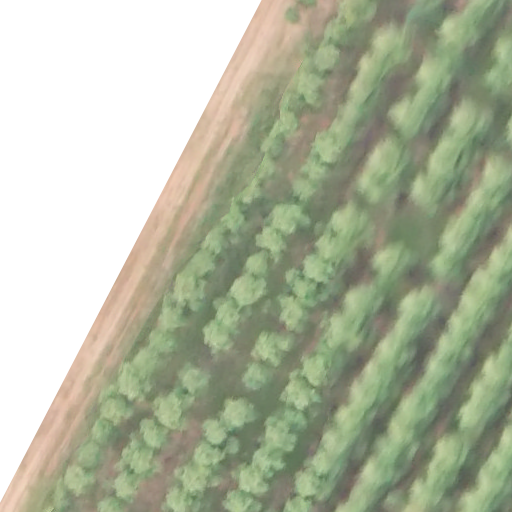eucalipto: (448, 98, 493, 144), (388, 98, 432, 140), (429, 141, 473, 182), (368, 244, 414, 281), (439, 15, 480, 55), (250, 332, 292, 368), (278, 378, 323, 411), (370, 145, 405, 187), (311, 132, 349, 170), (416, 59, 457, 94), (397, 290, 440, 323), (325, 317, 364, 353), (328, 208, 371, 240), (115, 366, 153, 402), (161, 484, 208, 512), (460, 289, 501, 321), (277, 297, 312, 334), (413, 176, 452, 209), (342, 287, 377, 323), (178, 462, 215, 496), (454, 403, 494, 434), (63, 462, 98, 497), (122, 435, 154, 473), (202, 321, 236, 356), (371, 339, 408, 371), (375, 436, 407, 473), (174, 275, 205, 313), (448, 313, 486, 344), (417, 368, 456, 398), (291, 472, 331, 501), (399, 391, 431, 427), (469, 189, 503, 222), (348, 381, 385, 411), (260, 425, 298, 454), (434, 439, 472, 468), (222, 397, 256, 429), (214, 301, 245, 336), (302, 354, 333, 389), (315, 233, 351, 263), (236, 467, 272, 497), (424, 463, 462, 491), (100, 394, 133, 426), (231, 276, 264, 308), (361, 357, 395, 388), (303, 254, 338, 284), (155, 395, 184, 430), (431, 252, 464, 282), (272, 206, 306, 235), (252, 449, 286, 478), (441, 225, 472, 256), (257, 225, 287, 257), (139, 418, 169, 450), (154, 305, 190, 331), (326, 18, 356, 49), (436, 333, 467, 363), (292, 177, 325, 205), (134, 351, 164, 381), (223, 489, 262, 512), (362, 459, 395, 486), (356, 177, 387, 205), (241, 365, 274, 391), (179, 367, 208, 396), (317, 432, 347, 460), (387, 417, 417, 445), (332, 406, 359, 437), (313, 45, 341, 74), (113, 473, 139, 504), (202, 228, 230, 256), (193, 446, 227, 469), (147, 330, 177, 356), (349, 483, 381, 507), (202, 420, 229, 448), (92, 420, 117, 449), (189, 254, 216, 279), (244, 251, 269, 278), (79, 442, 103, 469), (392, 320, 421, 342), (309, 453, 335, 476), (53, 487, 75, 510), (282, 497, 313, 512), (98, 498, 127, 512)
